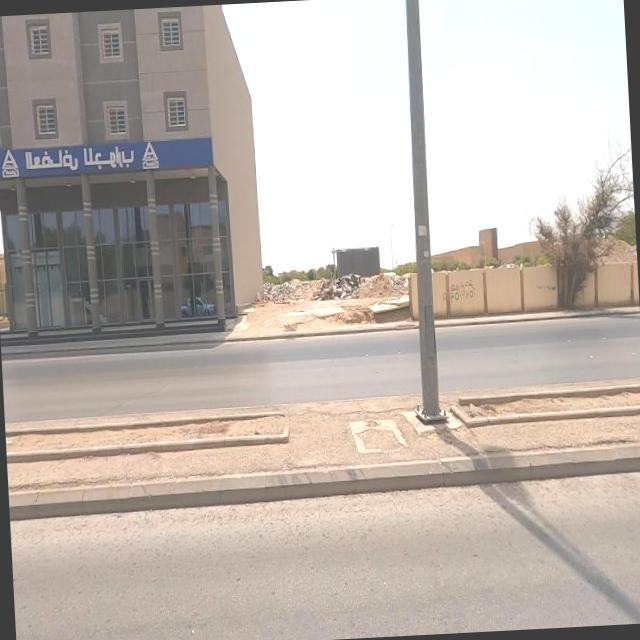debris: (410, 248, 516, 328), (504, 254, 582, 320), (257, 272, 308, 324)
